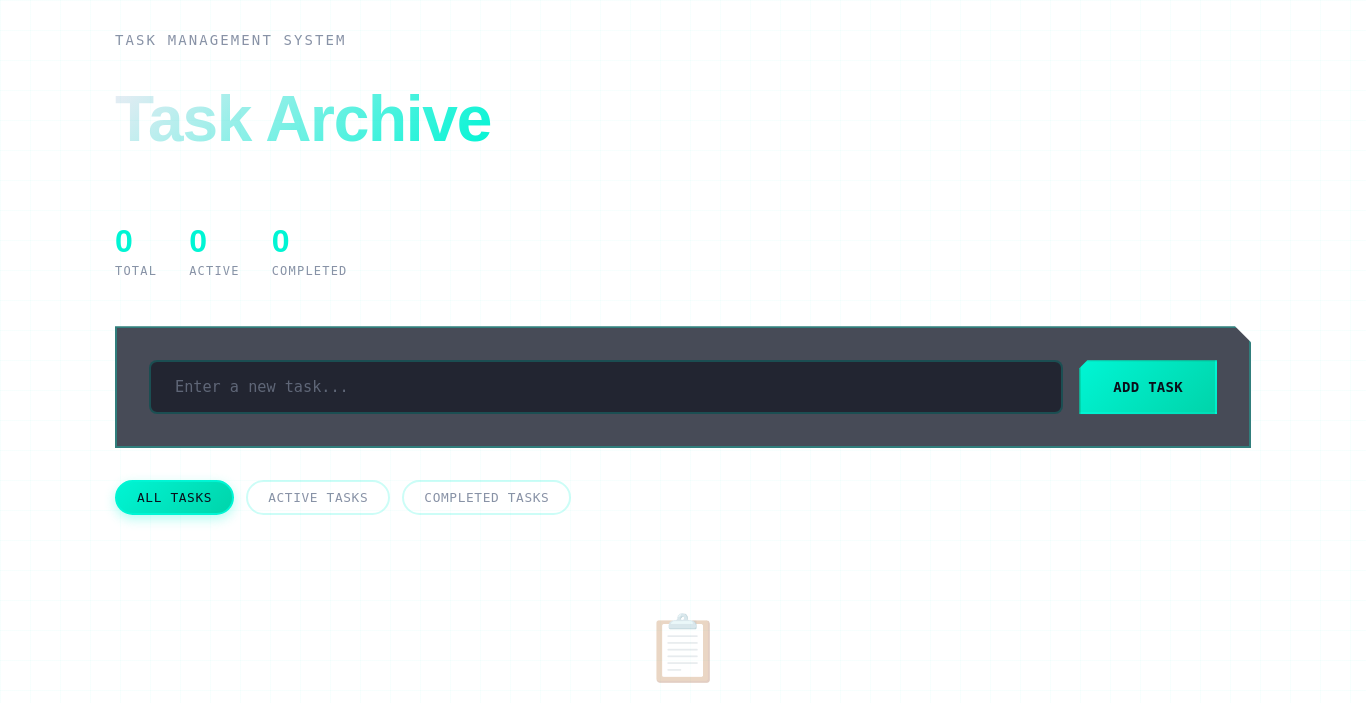
TodoManager Component › Adding Tasks › handles error when adding task fails
Step 1. Type "New Task" into the field with placeholder "Enter a new task..." → (606, 387), box [149, 360, 1063, 414]
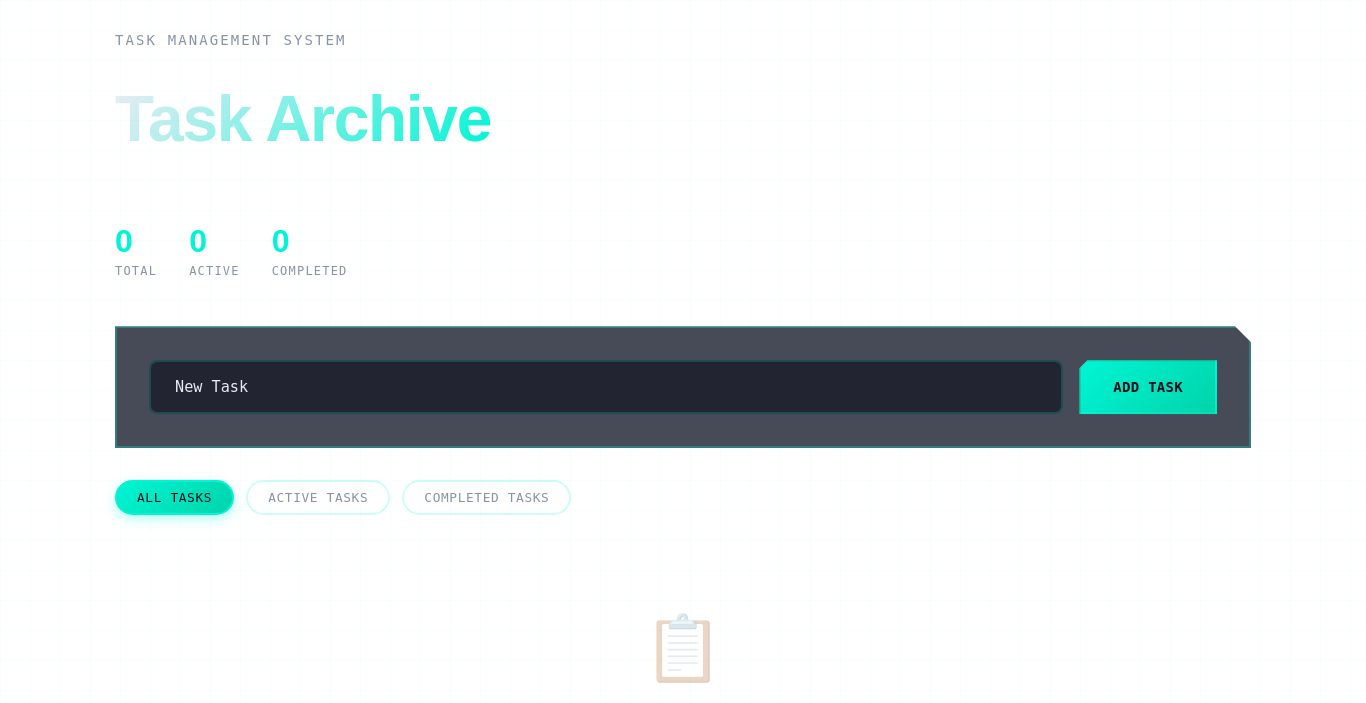
Step 2. Click the button "Add Task" → (1148, 387), box [1079, 360, 1217, 414]
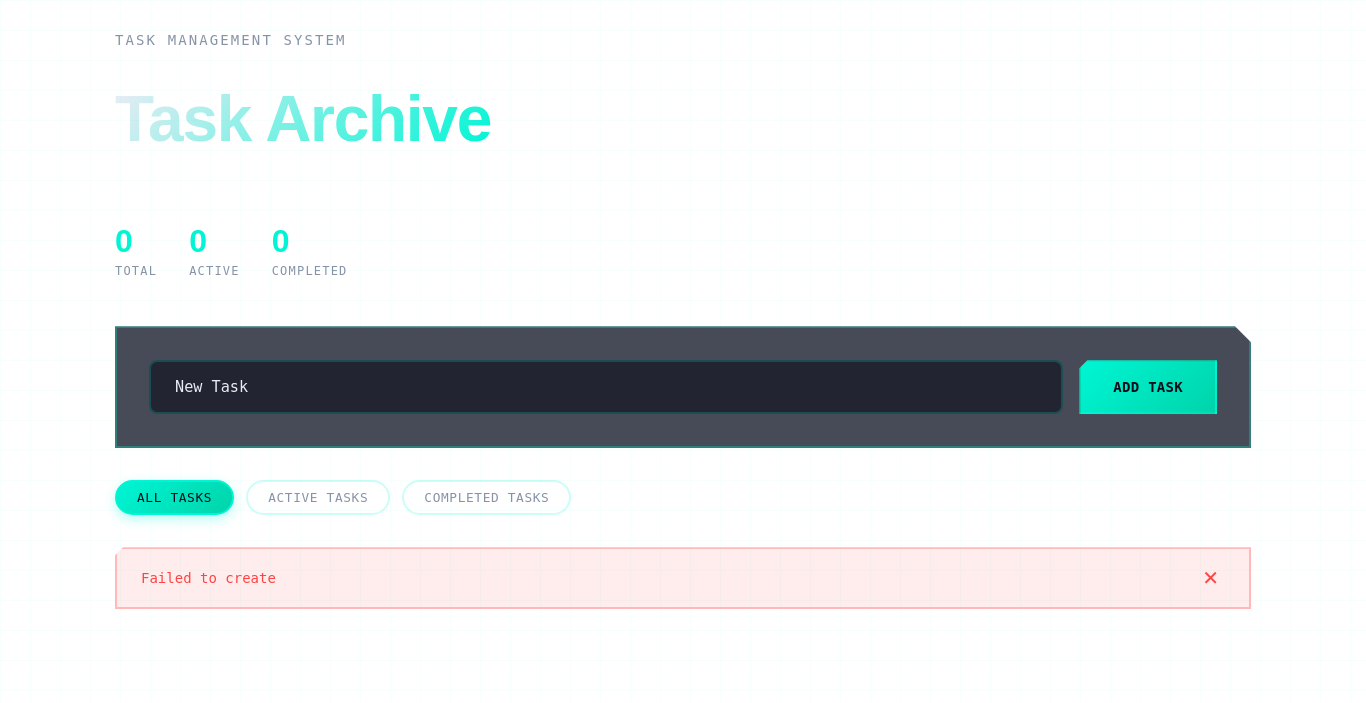
Expected: the text "Failed to create ✕" is shown, [115, 547, 1251, 609]
